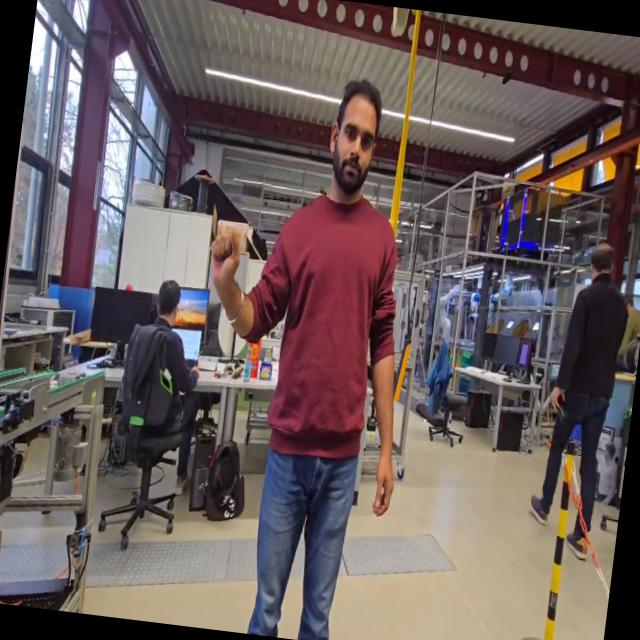closed_fist: (202, 214, 250, 304)
